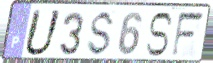3: (58, 11, 85, 57)
6: (117, 10, 144, 57)
F: (169, 10, 206, 59)
S: (85, 10, 117, 58), (144, 11, 175, 59)
U: (22, 8, 64, 58)
